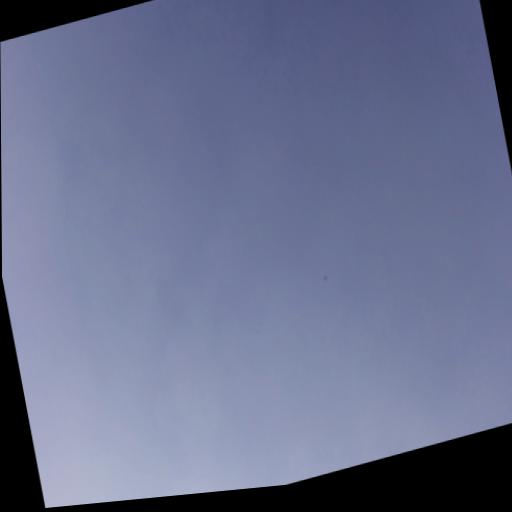drones: (322, 272, 328, 282)
